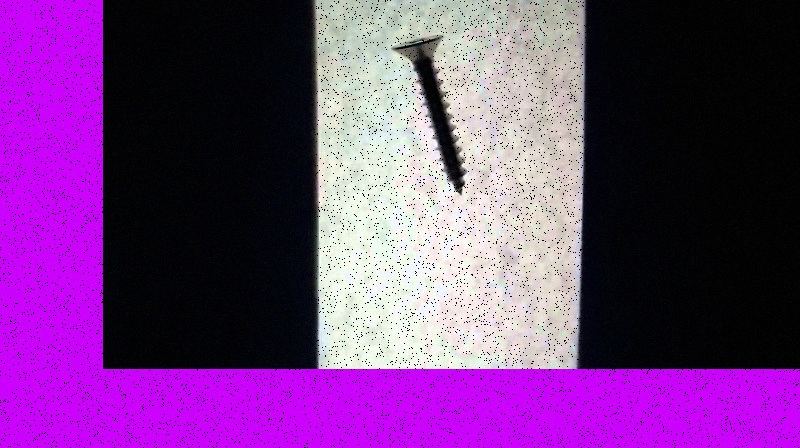S001: (386, 32, 468, 197)
